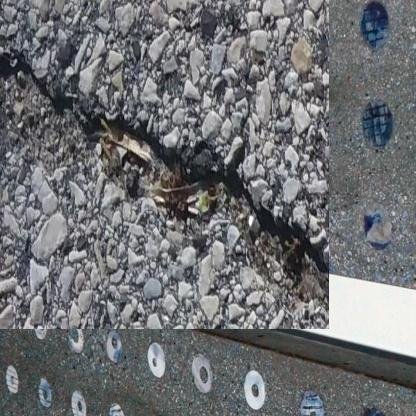Cracks: (0, 41, 304, 292)
